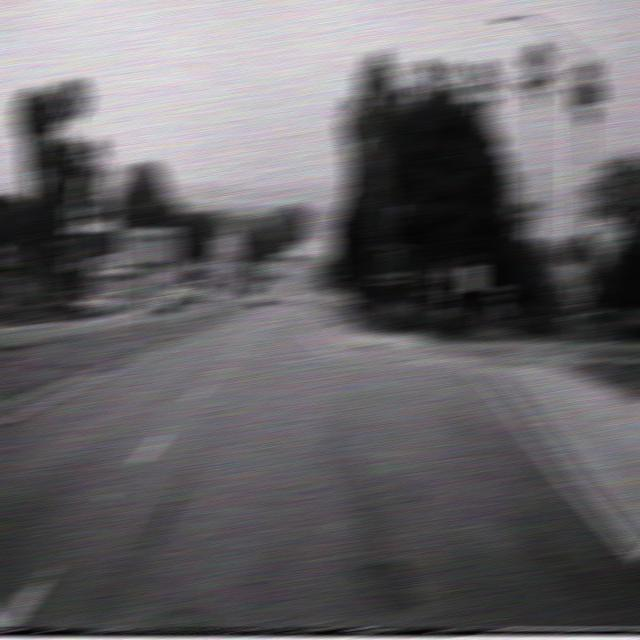pedestrianCrossing: (564, 269, 594, 312)
